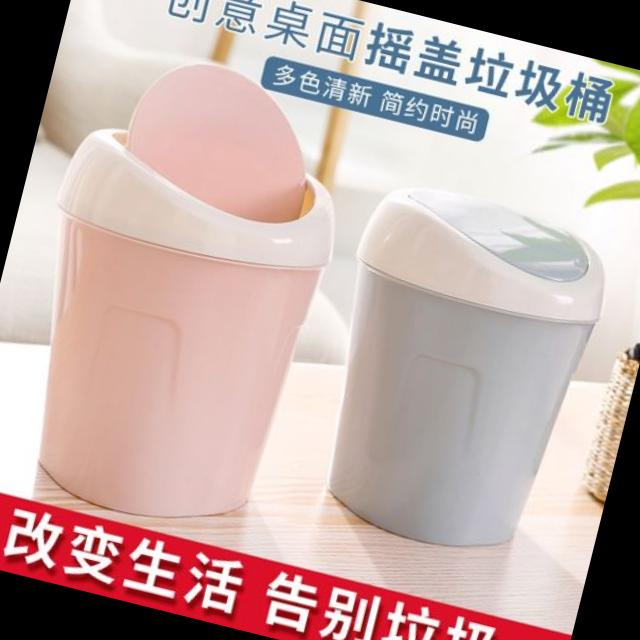dustbin: (0, 22, 381, 552), (288, 168, 628, 577)
